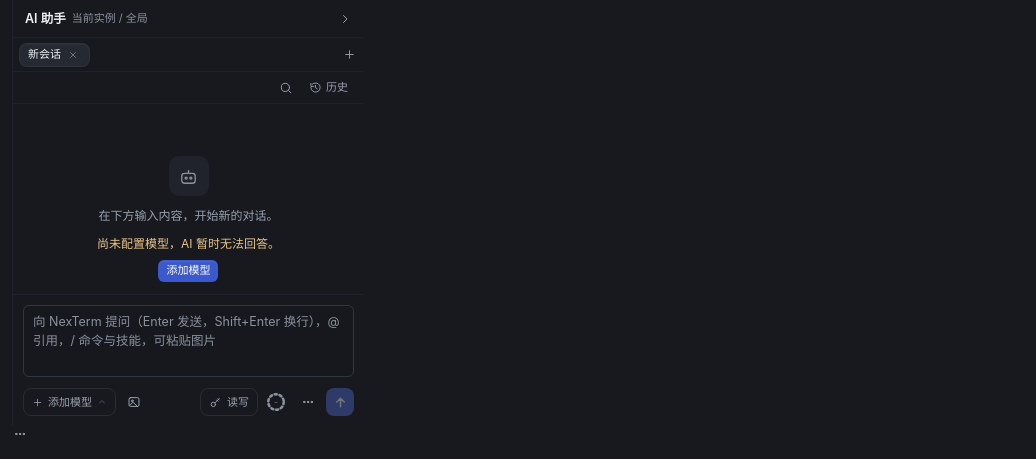
Scenario: ComposerMoreMenu › explains a disabled item and keyboard-navigates enabled ones
Click the 2nd button named "更多".
click(20, 434)  # box top-left (12, 426), bottom-right (28, 442)
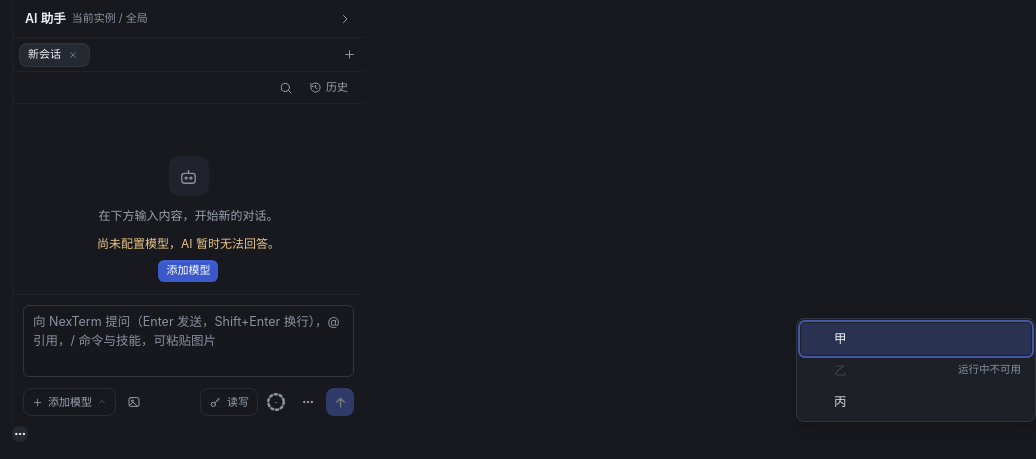
Expected: the menu item "乙 运行中不可用" is disabled, top-left (801, 355), bottom-right (1031, 386)
Expected: the menu item "乙 运行中不可用" is shown, top-left (801, 355), bottom-right (1031, 386)
Press ArrowDown in the menu item "甲", box top-left (801, 323), bottom-right (1031, 355)
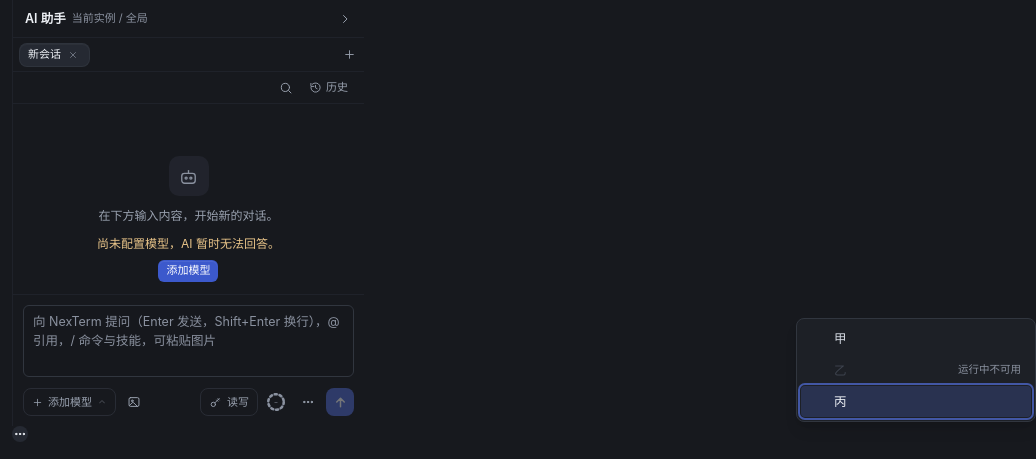
Click the menu item "丙".
click(916, 402)  # box top-left (801, 386), bottom-right (1031, 417)
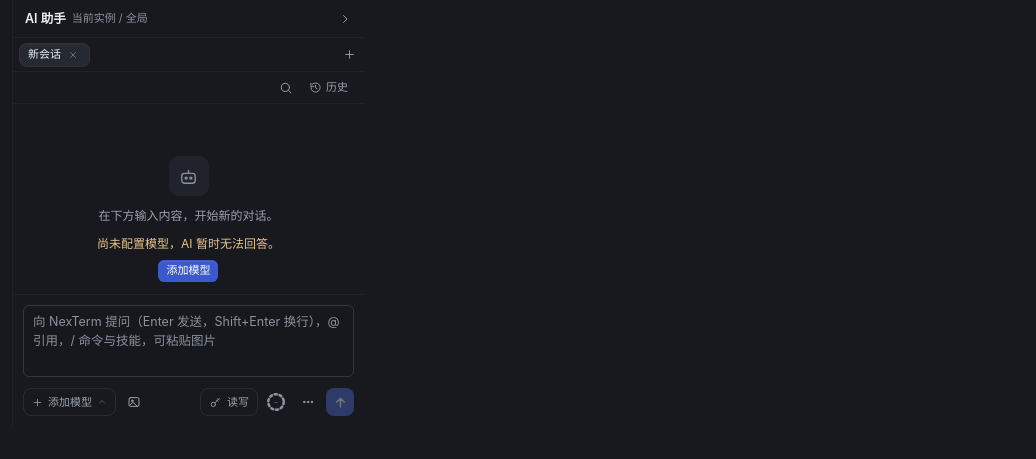
Expected: the button is gone
